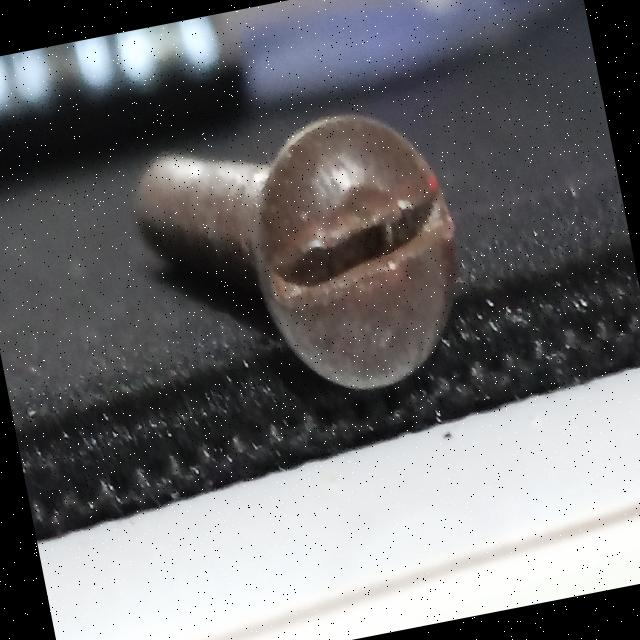Slotted: (231, 114, 498, 420)
